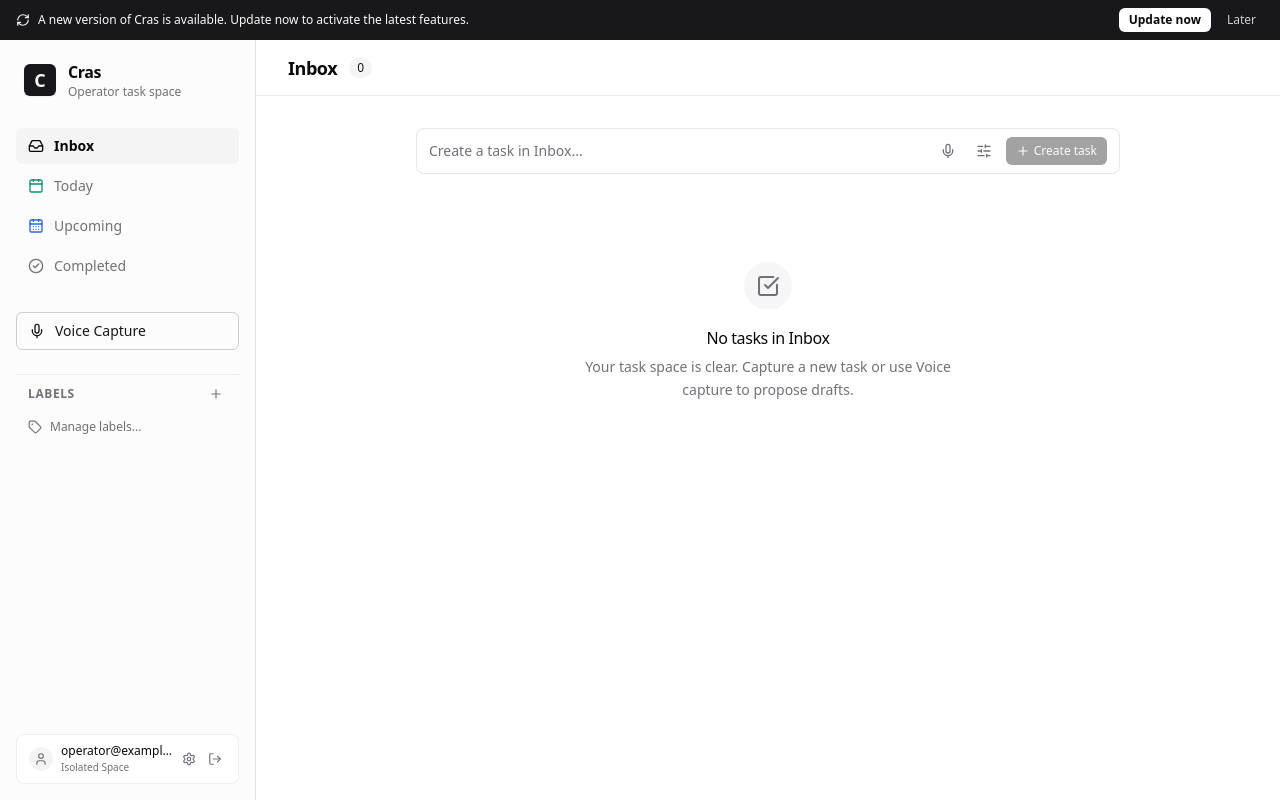
Test: Web Deliberate Offline Shell Journey (Issue #58) › Service Worker Update Prompting & In-Progress Preservation › dismisses prompt when Operator clicks Later without activating
Click the button "Later" at (1241, 20), box [1219, 8, 1264, 32]
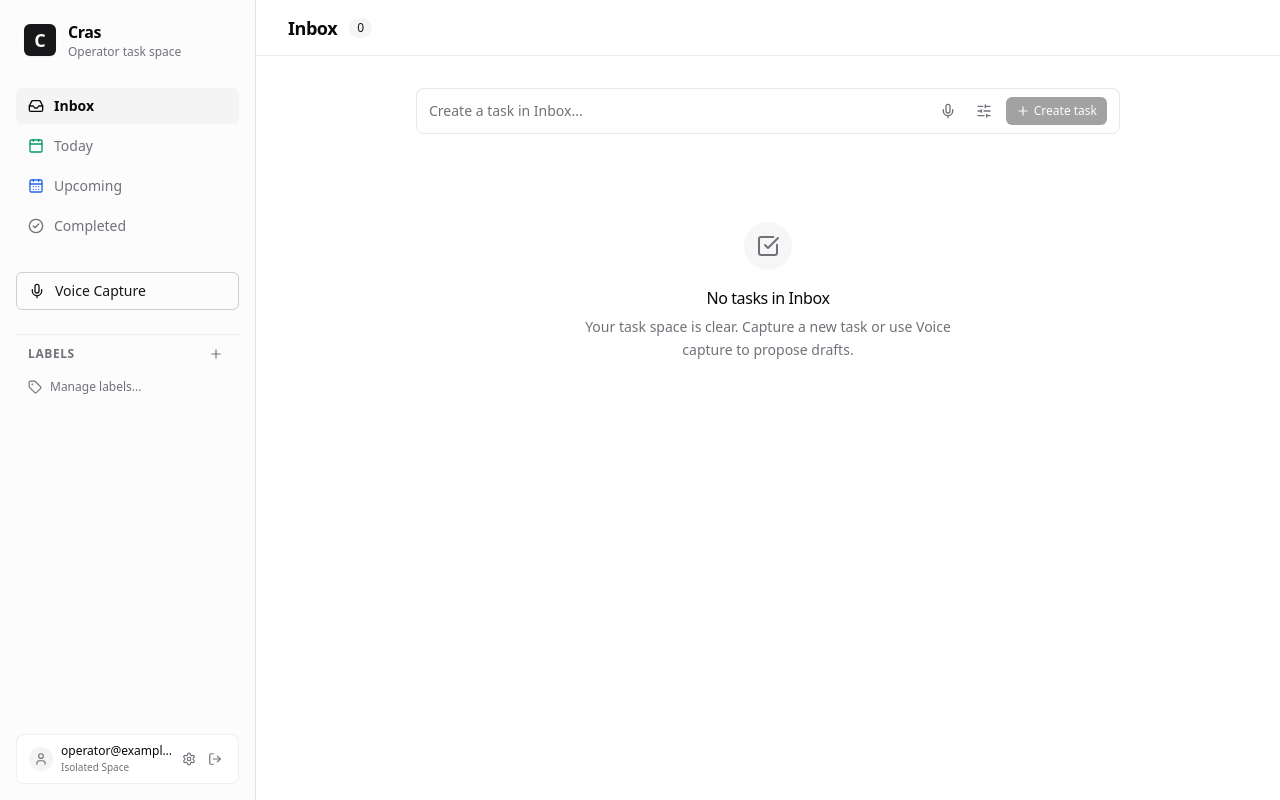
Check: the text "A new version of Cras is available" is gone
